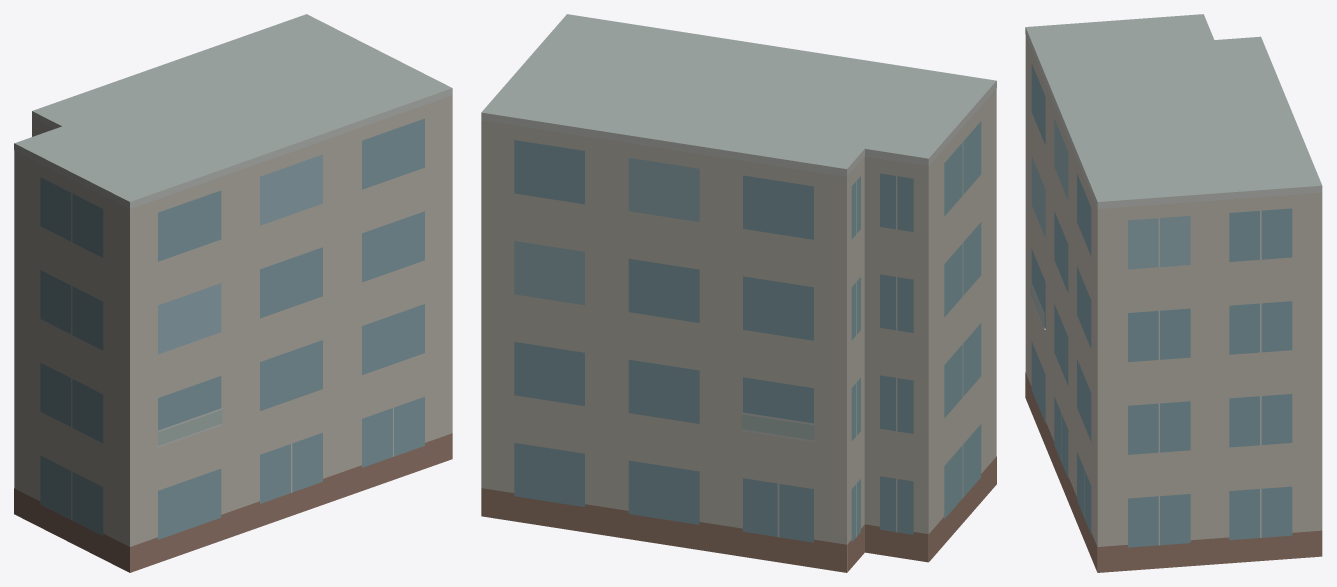
Rendered from survey-upis-32769764.glb.
3 renders of one model, left to right at view 1: azimuth 30°, elevation 25°; view 2: azimuth 150°, elevation 25°; view 3: azimuth 270°, elevation 25°, orthographic. The views are drawn at different scales.
Parts seen in each view (by area): view 1: survey-upis-32769764.tmp; view 2: survey-upis-32769764.tmp; view 3: survey-upis-32769764.tmp.
Part boxes in pixels (left/top/right/bottom): survey-upis-32769764.tmp: left=14, top=14, right=452, bottom=572; survey-upis-32769764.tmp: left=481, top=14, right=996, bottom=572; survey-upis-32769764.tmp: left=1025, top=14, right=1322, bottom=572.
Size of the model in its own units: 14.1 by 12.96 by 9.41.
